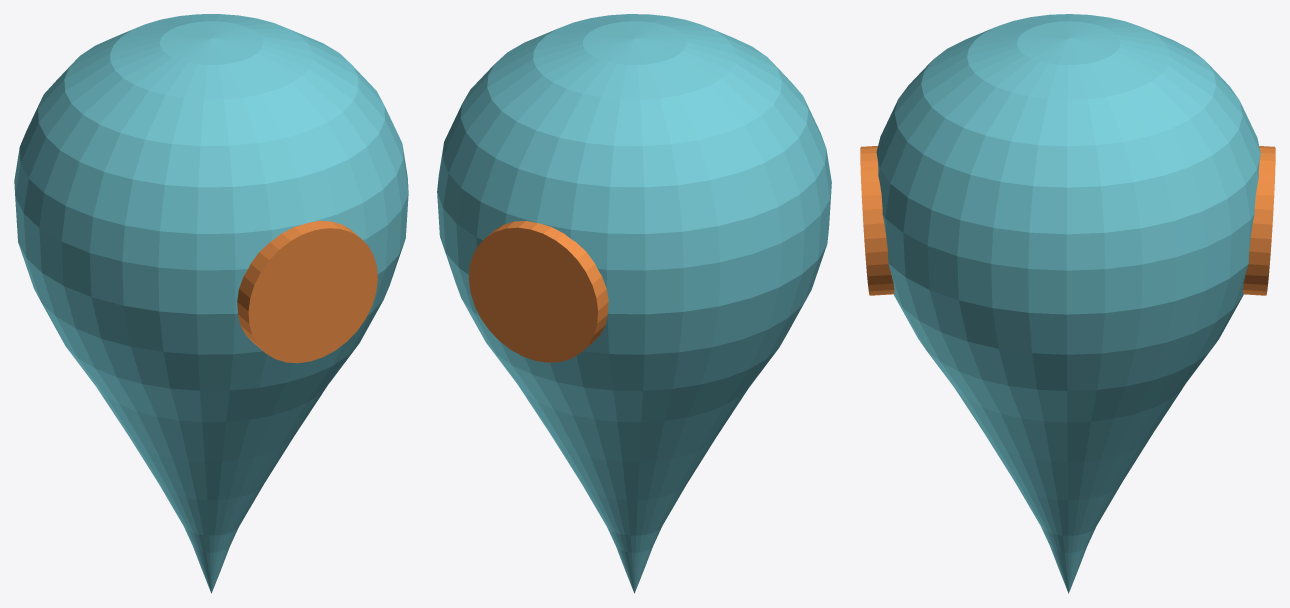
The model's file is pin2.gltf.
3 views of the same model, side by side, from view 1: azimuth 30°, elevation 25°; view 2: azimuth 150°, elevation 25°; view 3: azimuth 270°, elevation 25° (orthographic).
Visible parts, largest first — view 1: Sphere, Cylinder.002; view 2: Sphere, Cylinder.001; view 3: Sphere, Cylinder.002, Cylinder.001.
Part boxes in pixels (x1,y1,x2,y2): Sphere: [14, 14, 408, 593]; Cylinder.002: [237, 220, 377, 363]; Sphere: [437, 14, 831, 593]; Cylinder.001: [468, 221, 608, 362]; Sphere: [876, 14, 1260, 593]; Cylinder.002: [860, 146, 894, 295]; Cylinder.001: [1243, 146, 1275, 295].
Bounding box in the file's own units: 1.49 × 2.31 × 1.56.
